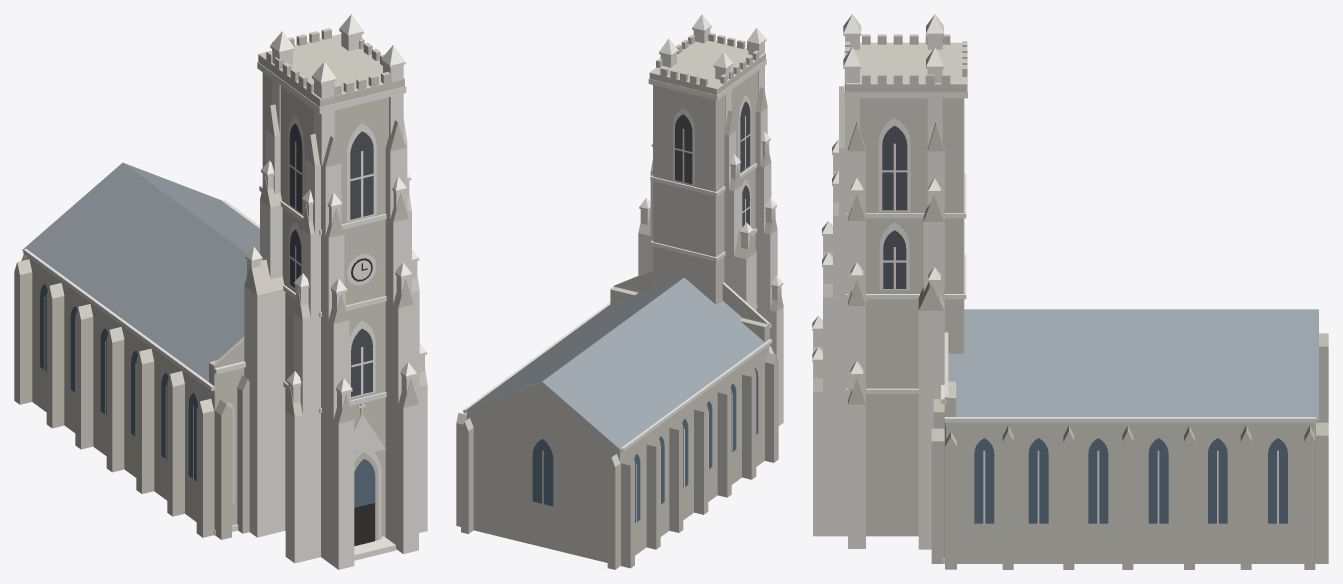
Rendered from nola-st-patricks-church.glb.
3 renders of one model, left to right at view 1: azimuth 30°, elevation 25°; view 2: azimuth 150°, elevation 25°; view 3: azimuth 270°, elevation 25°, orthographic. The views are drawn at different scales.
Visible parts, largest first — view 1: St. Patrick's Church; view 2: St. Patrick's Church; view 3: St. Patrick's Church.
Part boxes in pixels (x1,y1,x2,y2): St. Patrick's Church: (14,14,427,569); St. Patrick's Church: (456,14,783,569); St. Patrick's Church: (812,14,1328,569).
Size of the model in its own units: 25.2 by 53.9 by 51.89.
